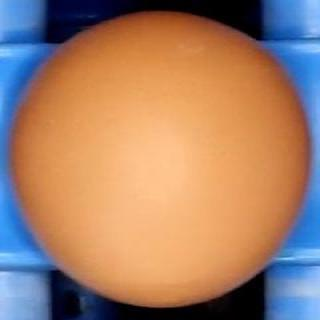Telur: (4, 5, 314, 310)
